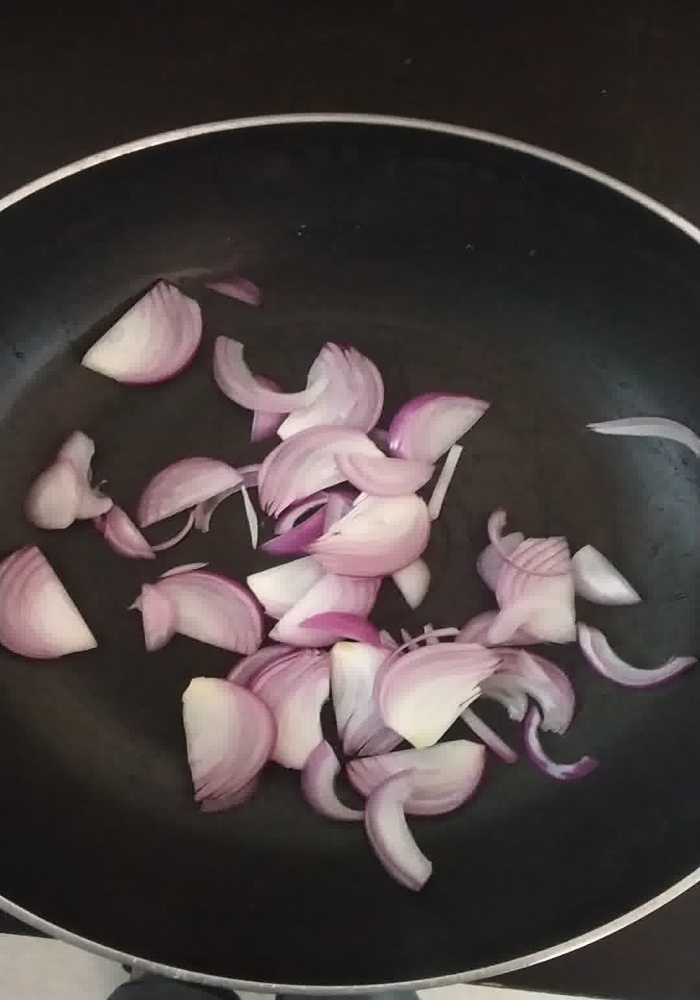onion_fresh: (263, 449, 443, 578), (336, 635, 495, 741), (178, 672, 275, 816), (81, 276, 200, 387), (128, 564, 266, 658), (486, 526, 589, 646), (245, 560, 380, 651), (1, 538, 95, 663), (354, 781, 439, 893), (343, 752, 486, 816), (298, 341, 383, 440), (393, 379, 492, 461), (137, 458, 242, 522), (39, 440, 110, 522), (303, 741, 360, 832)
